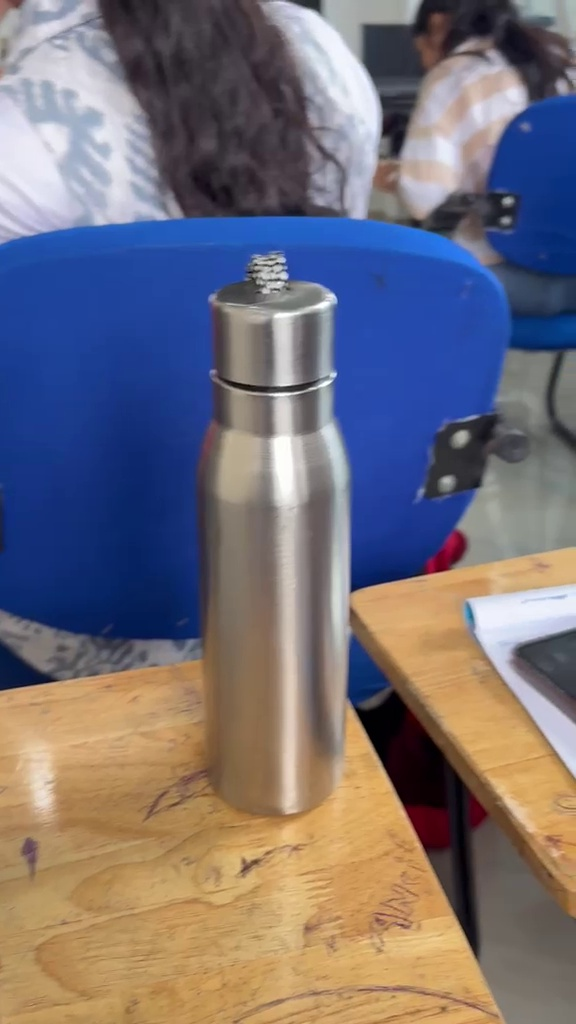Bottle: (196, 252, 354, 835)
